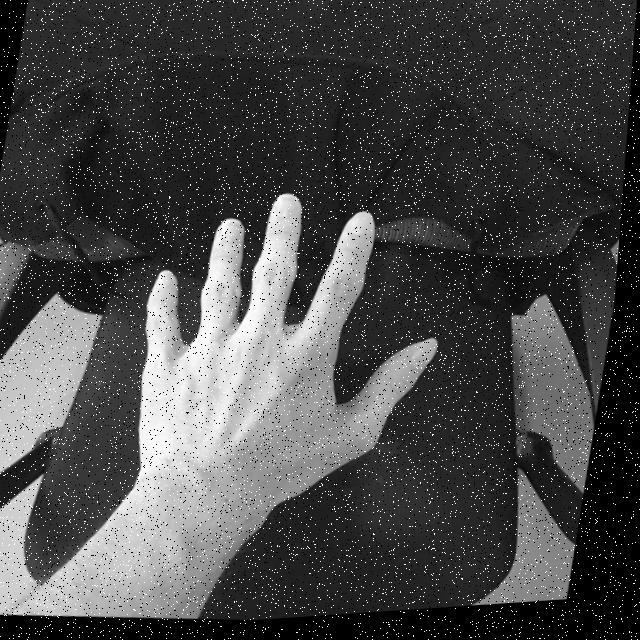no-gloves: (114, 168, 472, 512)
